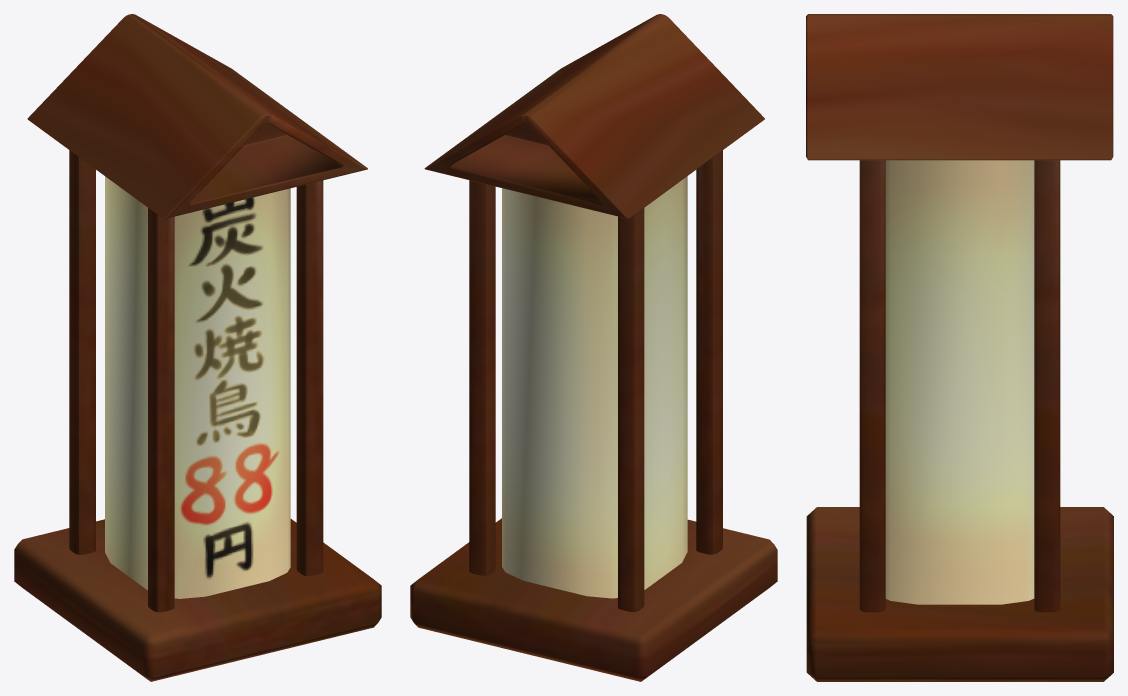
File: LightBox.fbx
3 renders of one model, left to right at view 1: azimuth 30°, elevation 25°; view 2: azimuth 150°, elevation 25°; view 3: azimuth 270°, elevation 25°, orthographic. The views are drawn at different scales.
Visible parts, largest first — view 1: LightBox; view 2: LightBox; view 3: LightBox.
Boxes of the visible parts, x1=… form: LightBox: x1=14, y1=14, x2=381, y2=681; LightBox: x1=410, y1=14, x2=777, y2=681; LightBox: x1=806, y1=14, x2=1113, y2=681.
Bounding box in the file's own units: 0.5996 × 1.31 × 0.6012.
Materials: 1 (1 with a texture image).
